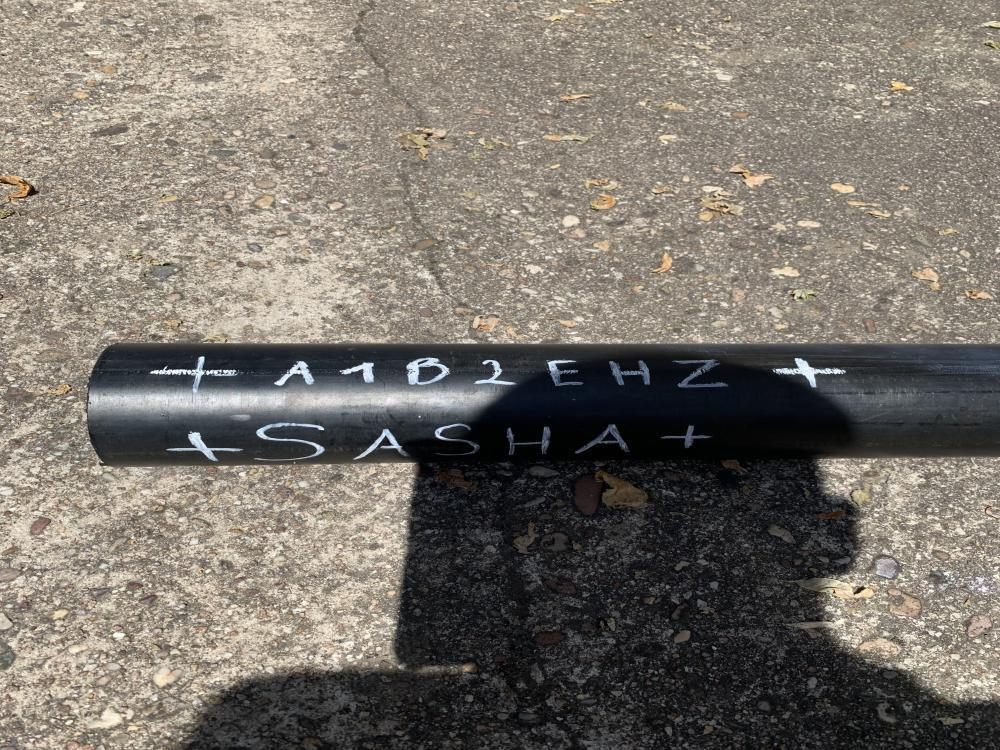+: (151, 356, 241, 394), (165, 432, 244, 464), (773, 358, 846, 388), (662, 426, 712, 448)
1: (340, 362, 376, 384)
2: (474, 360, 516, 386)
A: (354, 428, 413, 459), (578, 424, 632, 455), (274, 360, 316, 386)
B: (406, 356, 450, 386)
E: (548, 360, 587, 388)
H: (505, 426, 551, 455), (607, 360, 652, 386)
S: (252, 422, 327, 462), (434, 422, 482, 458)
Z: (673, 360, 727, 388)
